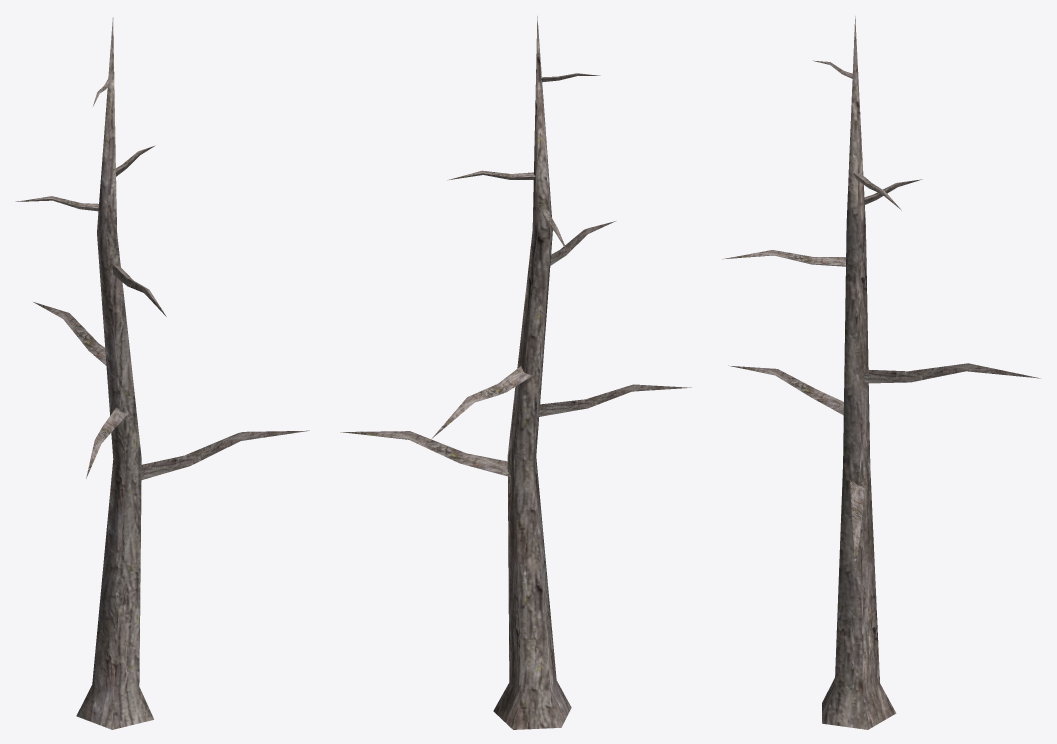
Rendered from tree1.glb.
The picture shows the model from 3 angles, left to right: view 1: azimuth 30°, elevation 25°; view 2: azimuth 150°, elevation 25°; view 3: azimuth 270°, elevation 25°; orthographic projection.
Visible parts, largest first — view 1: Arbol1; view 2: Arbol1; view 3: Arbol1.
Boxes of the visible parts, box(x1,y1,x2,y2) form: Arbol1: box(15, 17, 309, 729); Arbol1: box(340, 16, 691, 729); Arbol1: box(722, 16, 1040, 729).
Bounding box in the file's own units: 23.64 × 54.76 × 22.85.
Materials: 1 (1 with a texture image).
